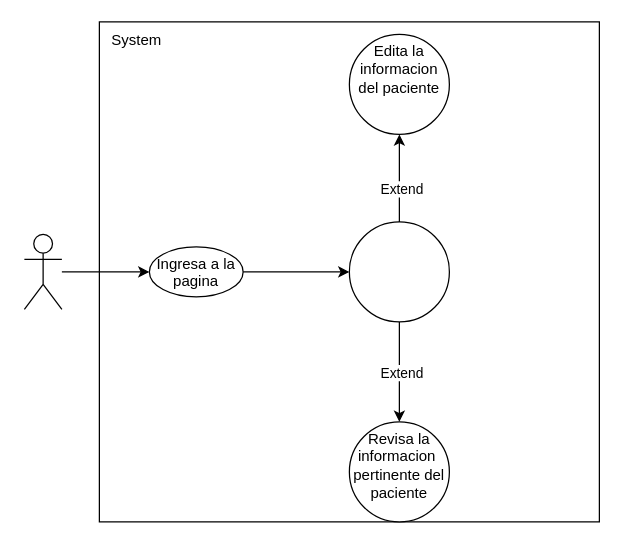
Some shapes in this 621 by 544 pixel diagram are drawn without their labels. Each missing label, with the centre of its shape:
"Admin" belongs at point (42, 271).
"Ingresa al apartado de gestion de informacion" belongs at point (398, 271).
